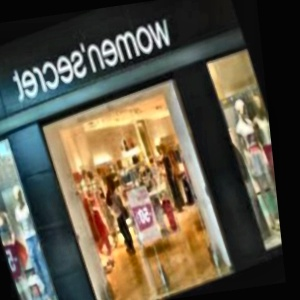women_secret: (155, 2, 190, 20)
